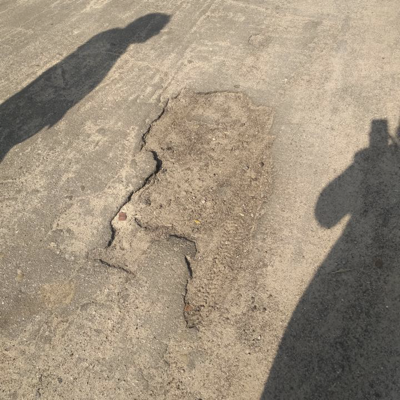pothole: (87, 84, 280, 331)
